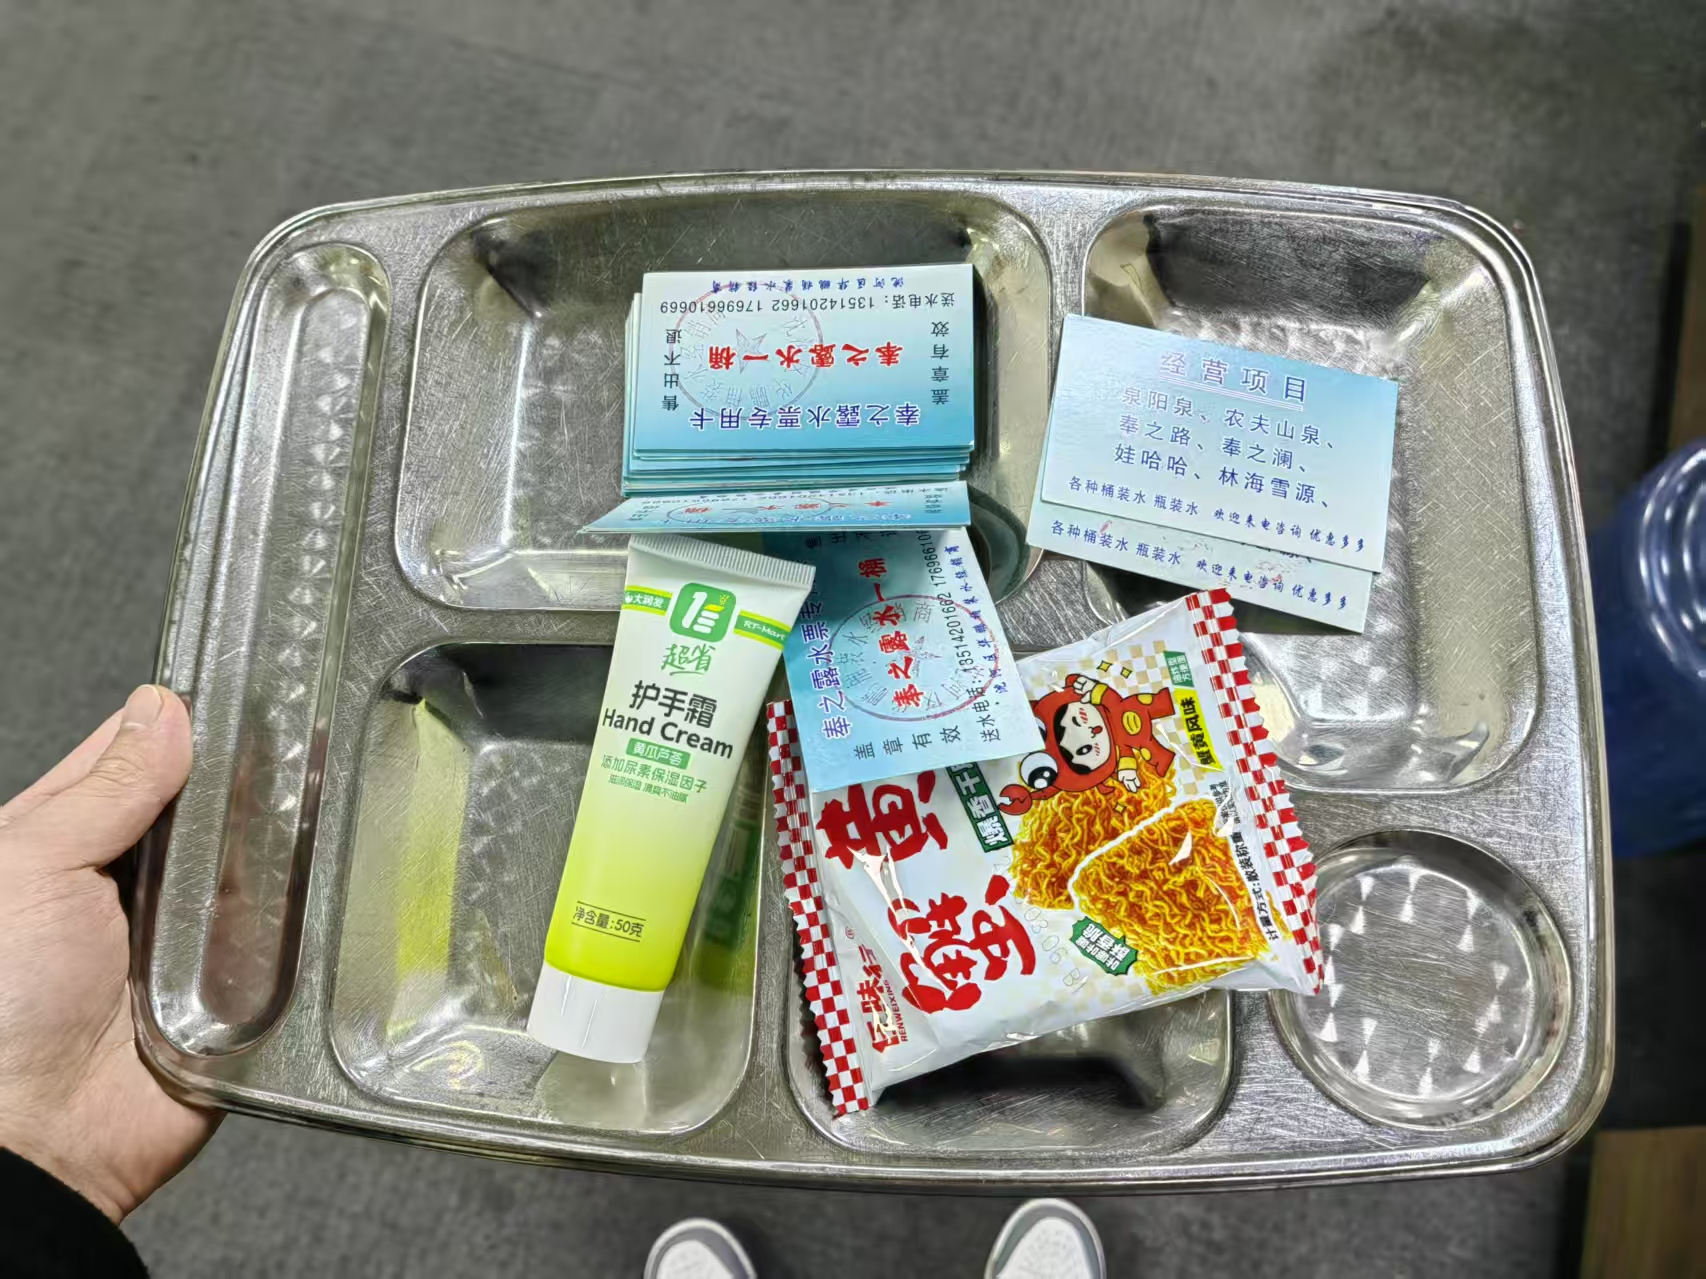plate: (125, 166, 1616, 1188)
severe: (530, 257, 1403, 1110)
